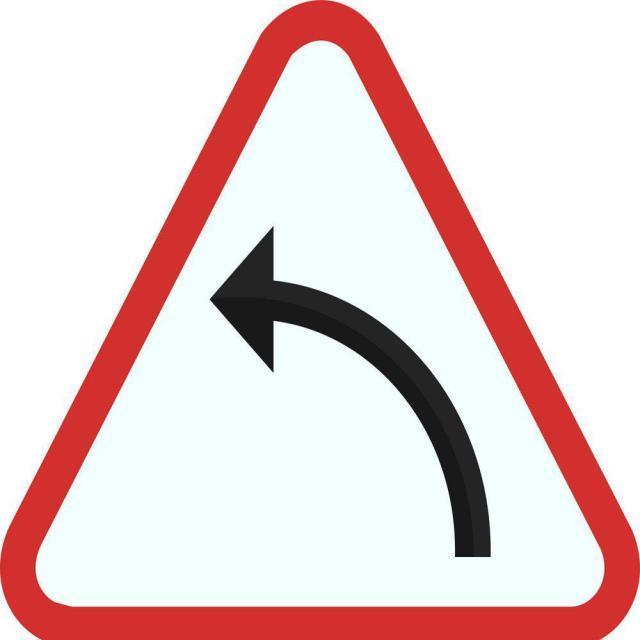left hand curve: (18, 9, 622, 631)
